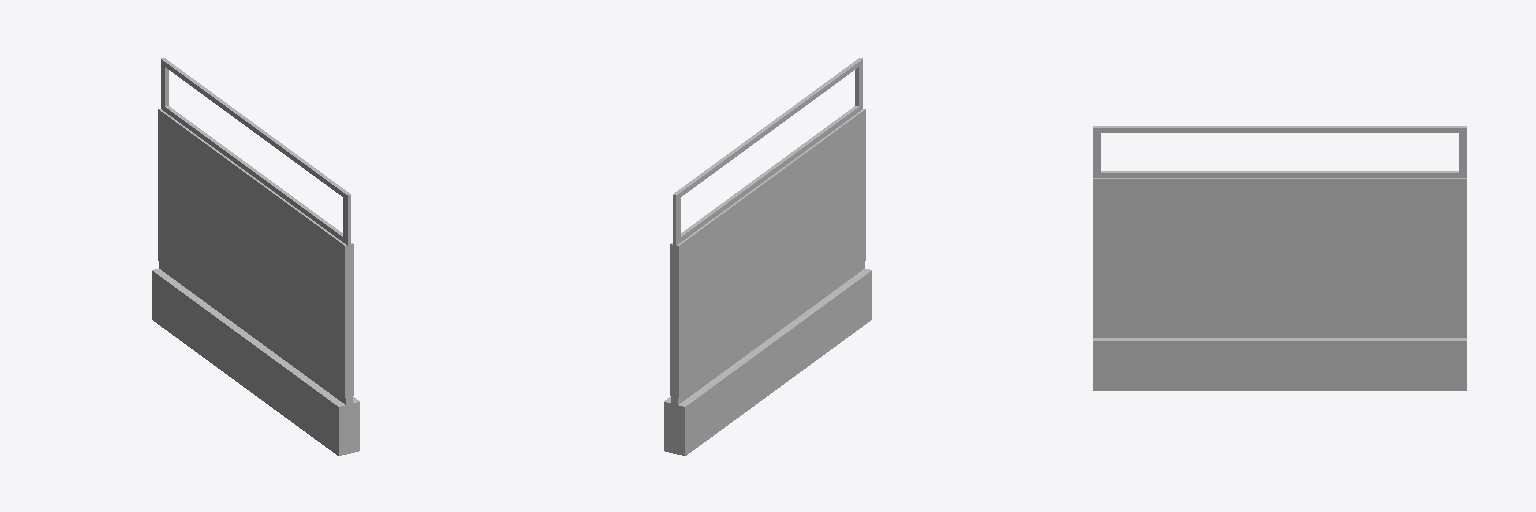
File: Atrium_SecondFloor_Railway.obj
3 views of the same model, side by side, from view 1: azimuth 30°, elevation 25°; view 2: azimuth 150°, elevation 25°; view 3: azimuth 270°, elevation 25° (orthographic).
Visible parts, largest first — view 1: Atrium_Railing_Big16; view 2: Atrium_Railing_Big16; view 3: Atrium_Railing_Big16.
Part boxes in pixels (bbox=[...]): Atrium_Railing_Big16: bbox=[152, 58, 359, 455]; Atrium_Railing_Big16: bbox=[664, 58, 871, 455]; Atrium_Railing_Big16: bbox=[1093, 126, 1466, 390].
Size of the model in its own units: 27.11 by 309 by 405.